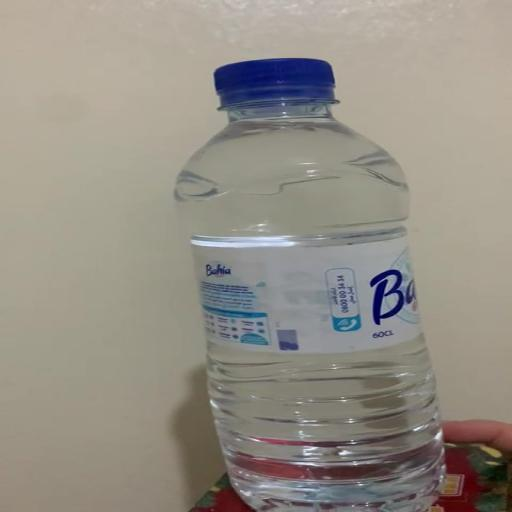bouteille conformite: (169, 43, 478, 508)
